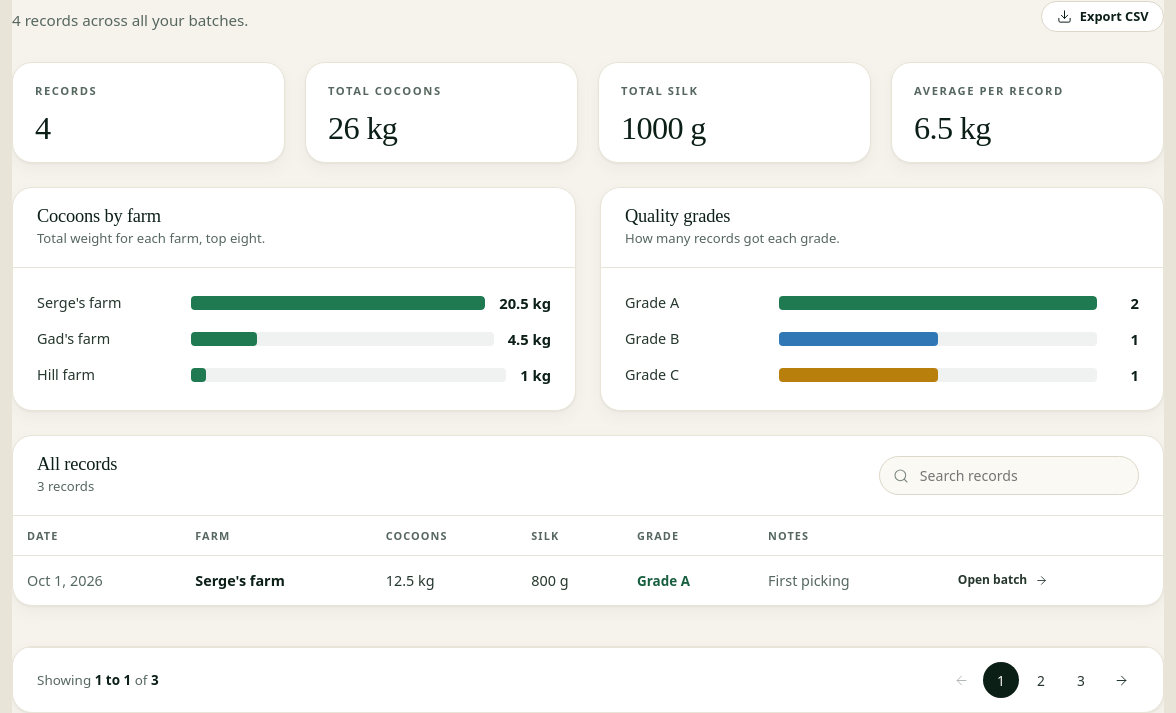
Test: Harvests page › shows one page and moves between pages
(page scrolled)
expect the text "First picking" is shown: met, box [754, 555, 932, 605]
expect the text "3 records" is shown: met, box [37, 477, 94, 495]
Click the button named "Next page" at (1121, 680), box [1103, 662, 1139, 698]
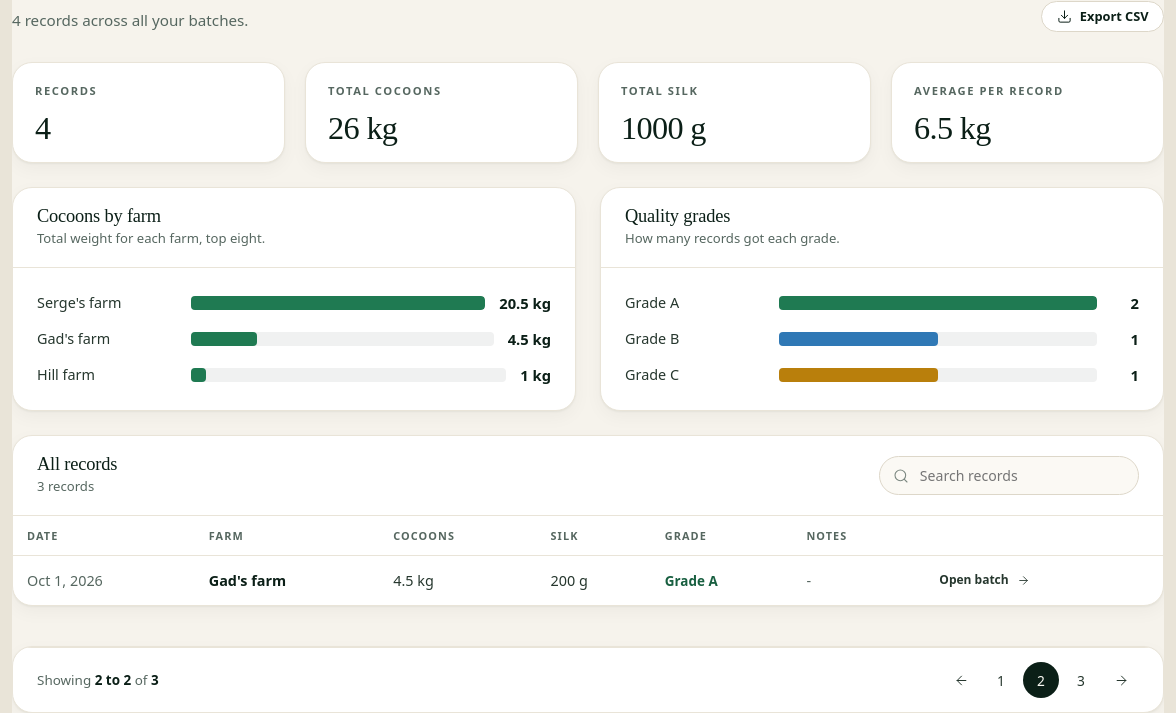
expect the text "Gad's farm" is shown: met, box [195, 555, 379, 605]
expect the text "First picking" is gone: met
